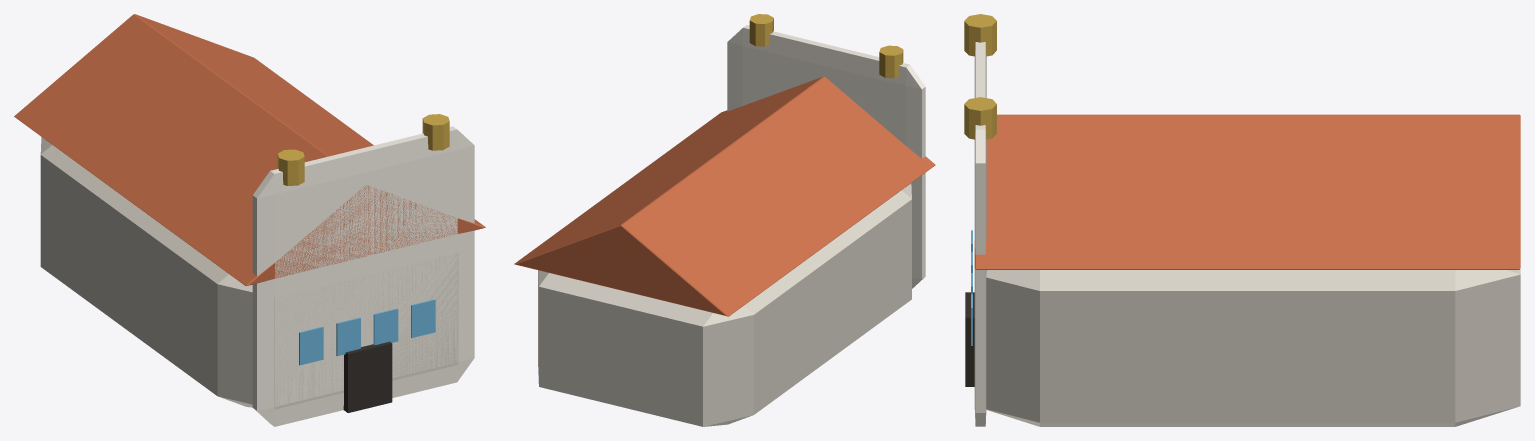
File: church_mission_l.glb
3 renders of one model, left to right at view 1: azimuth 30°, elevation 25°; view 2: azimuth 150°, elevation 25°; view 3: azimuth 270°, elevation 25°, orthographic. The views are drawn at different scales.
Visible parts, largest first — view 1: roof, facade, walls, arch, bell.001, bell, win.002, win.003, win, win.001; view 2: roof, walls, facade, bell.001, bell; view 3: roof, walls, facade, bell.001, bell, arch.
Part boxes in pixels (x1=…): roof: x1=14, y1=14, x2=485, y2=285; facade: x1=252, y1=126, x2=474, y2=426; walls: x1=40, y1=137, x2=458, y2=409; arch: x1=343, y1=341, x2=392, y2=412; bell.001: x1=422, y1=114, x2=449, y2=150; bell: x1=277, y1=149, x2=304, y2=185; win.002: x1=373, y1=308, x2=398, y2=345; win.003: x1=411, y1=299, x2=435, y2=337; win: x1=299, y1=326, x2=323, y2=365; win.001: x1=336, y1=317, x2=360, y2=356; roof: x1=514, y1=76, x2=935, y2=316; walls: x1=538, y1=183, x2=911, y2=426; facade: x1=727, y1=25, x2=925, y2=288; bell.001: x1=749, y1=14, x2=773, y2=46; bell: x1=879, y1=45, x2=903, y2=78; roof: x1=974, y1=114, x2=1520, y2=269; walls: x1=986, y1=268, x2=1520, y2=426; facade: x1=974, y1=42, x2=986, y2=426; bell.001: x1=964, y1=97, x2=996, y2=139; bell: x1=964, y1=14, x2=996, y2=56; arch: x1=965, y1=292, x2=974, y2=386.
Bounding box in the file's own units: 16.2 × 17.01 × 27.51.
